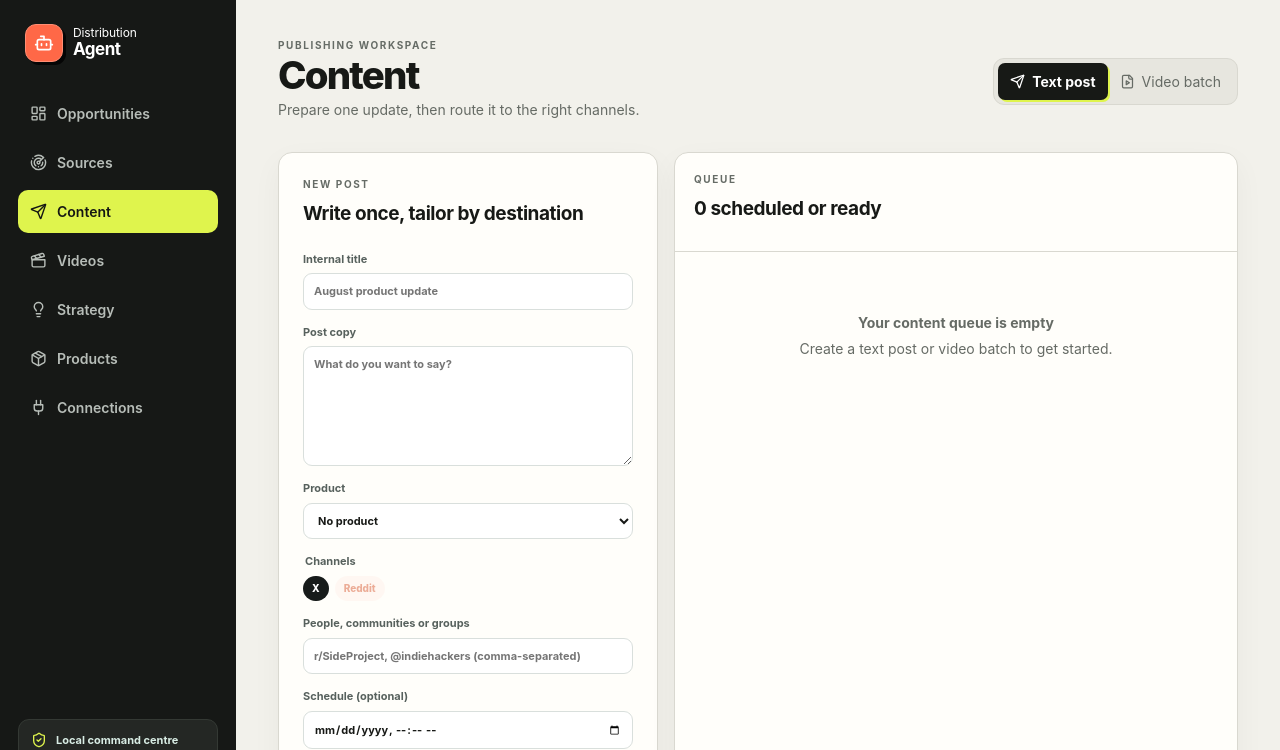
multi-channel content › switches to a multi-service video batch
Click the button "Video batch" at (1170, 81), box [1108,63,1233,100]
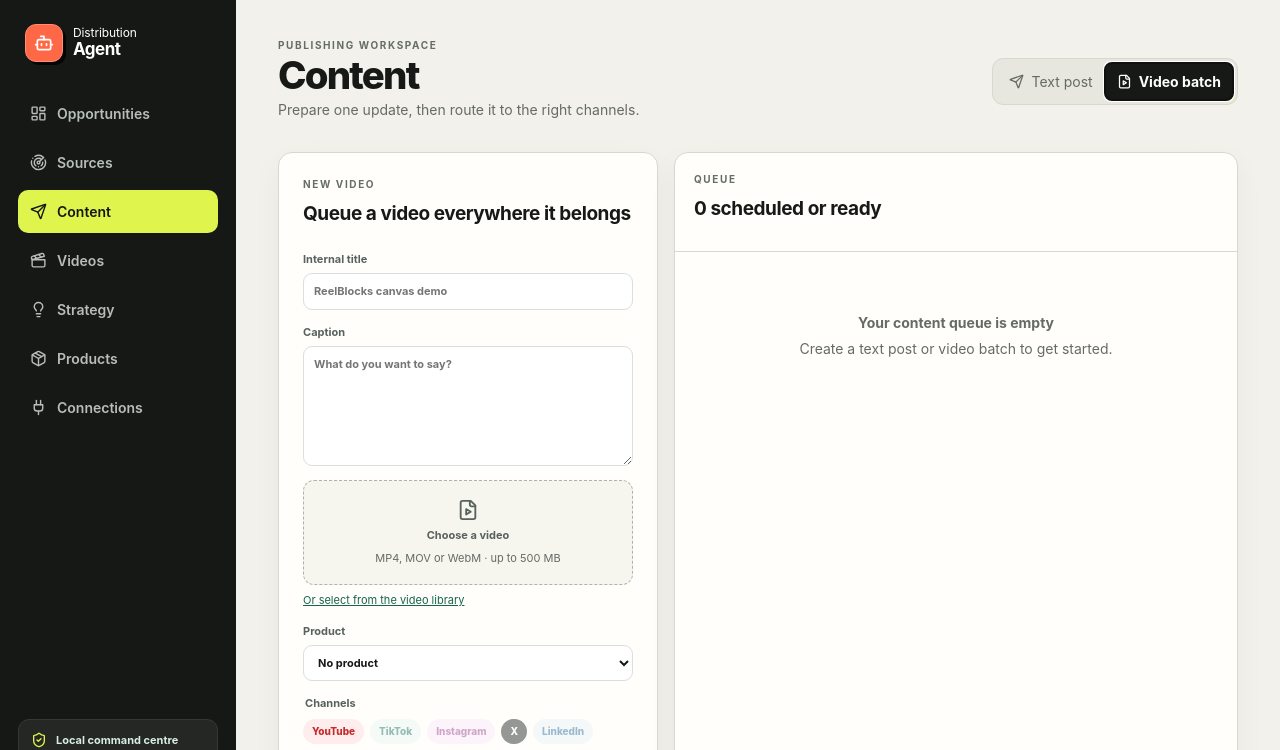
Result: the text "YouTube" is shown at [303,719,364,744]
Result: the text "TikTok" is shown at [370,719,421,744]
Result: the text "Instagram" is shown at [427,719,496,744]
